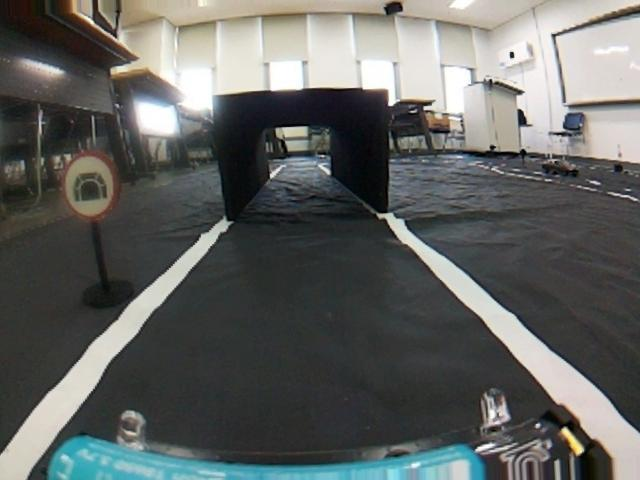sign_tunnel: (61, 151, 124, 222)
straight: (0, 191, 640, 480)
